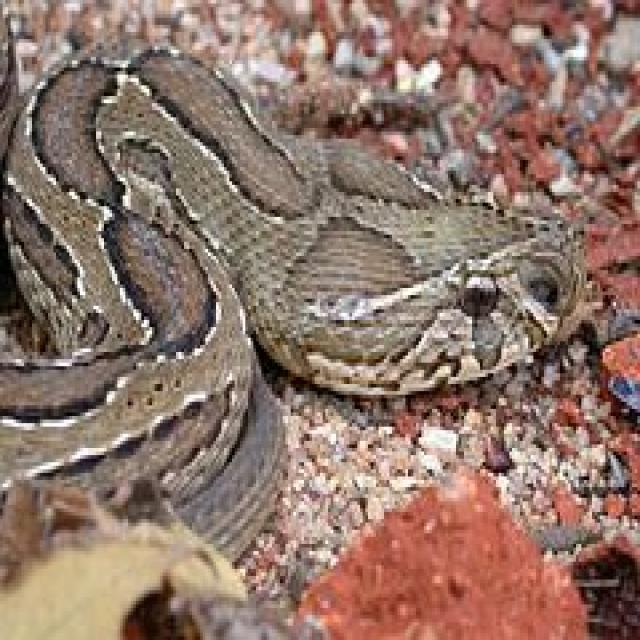Snake: (0, 39, 585, 494)
